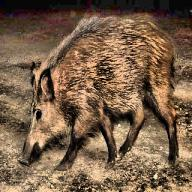boar: (18, 12, 180, 171)
